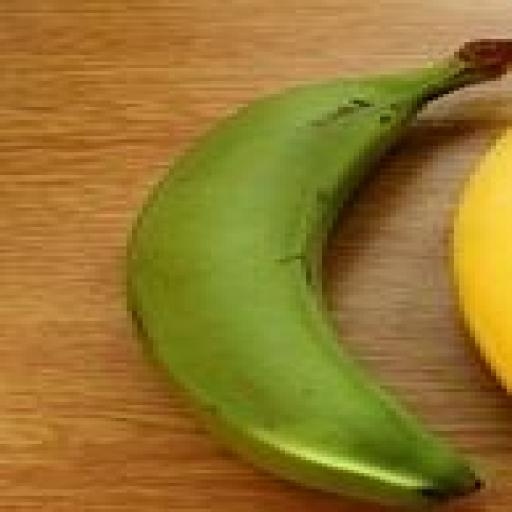banana-unripe: (105, 0, 512, 512)
